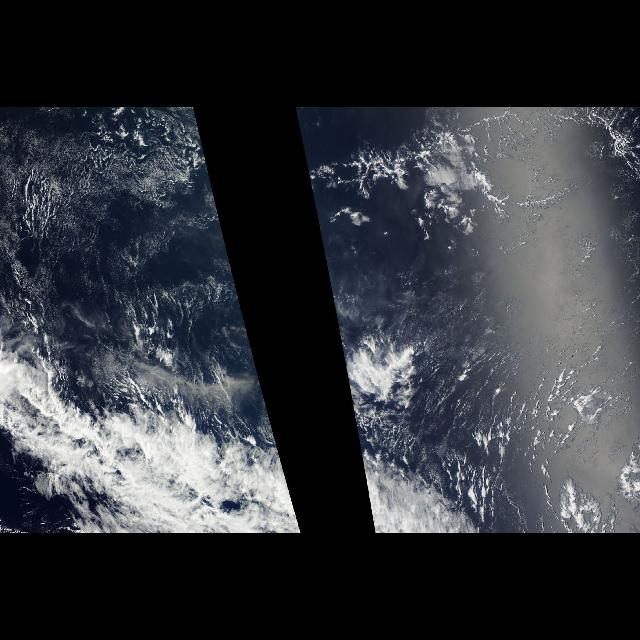Sugar: (3, 132, 217, 282)
